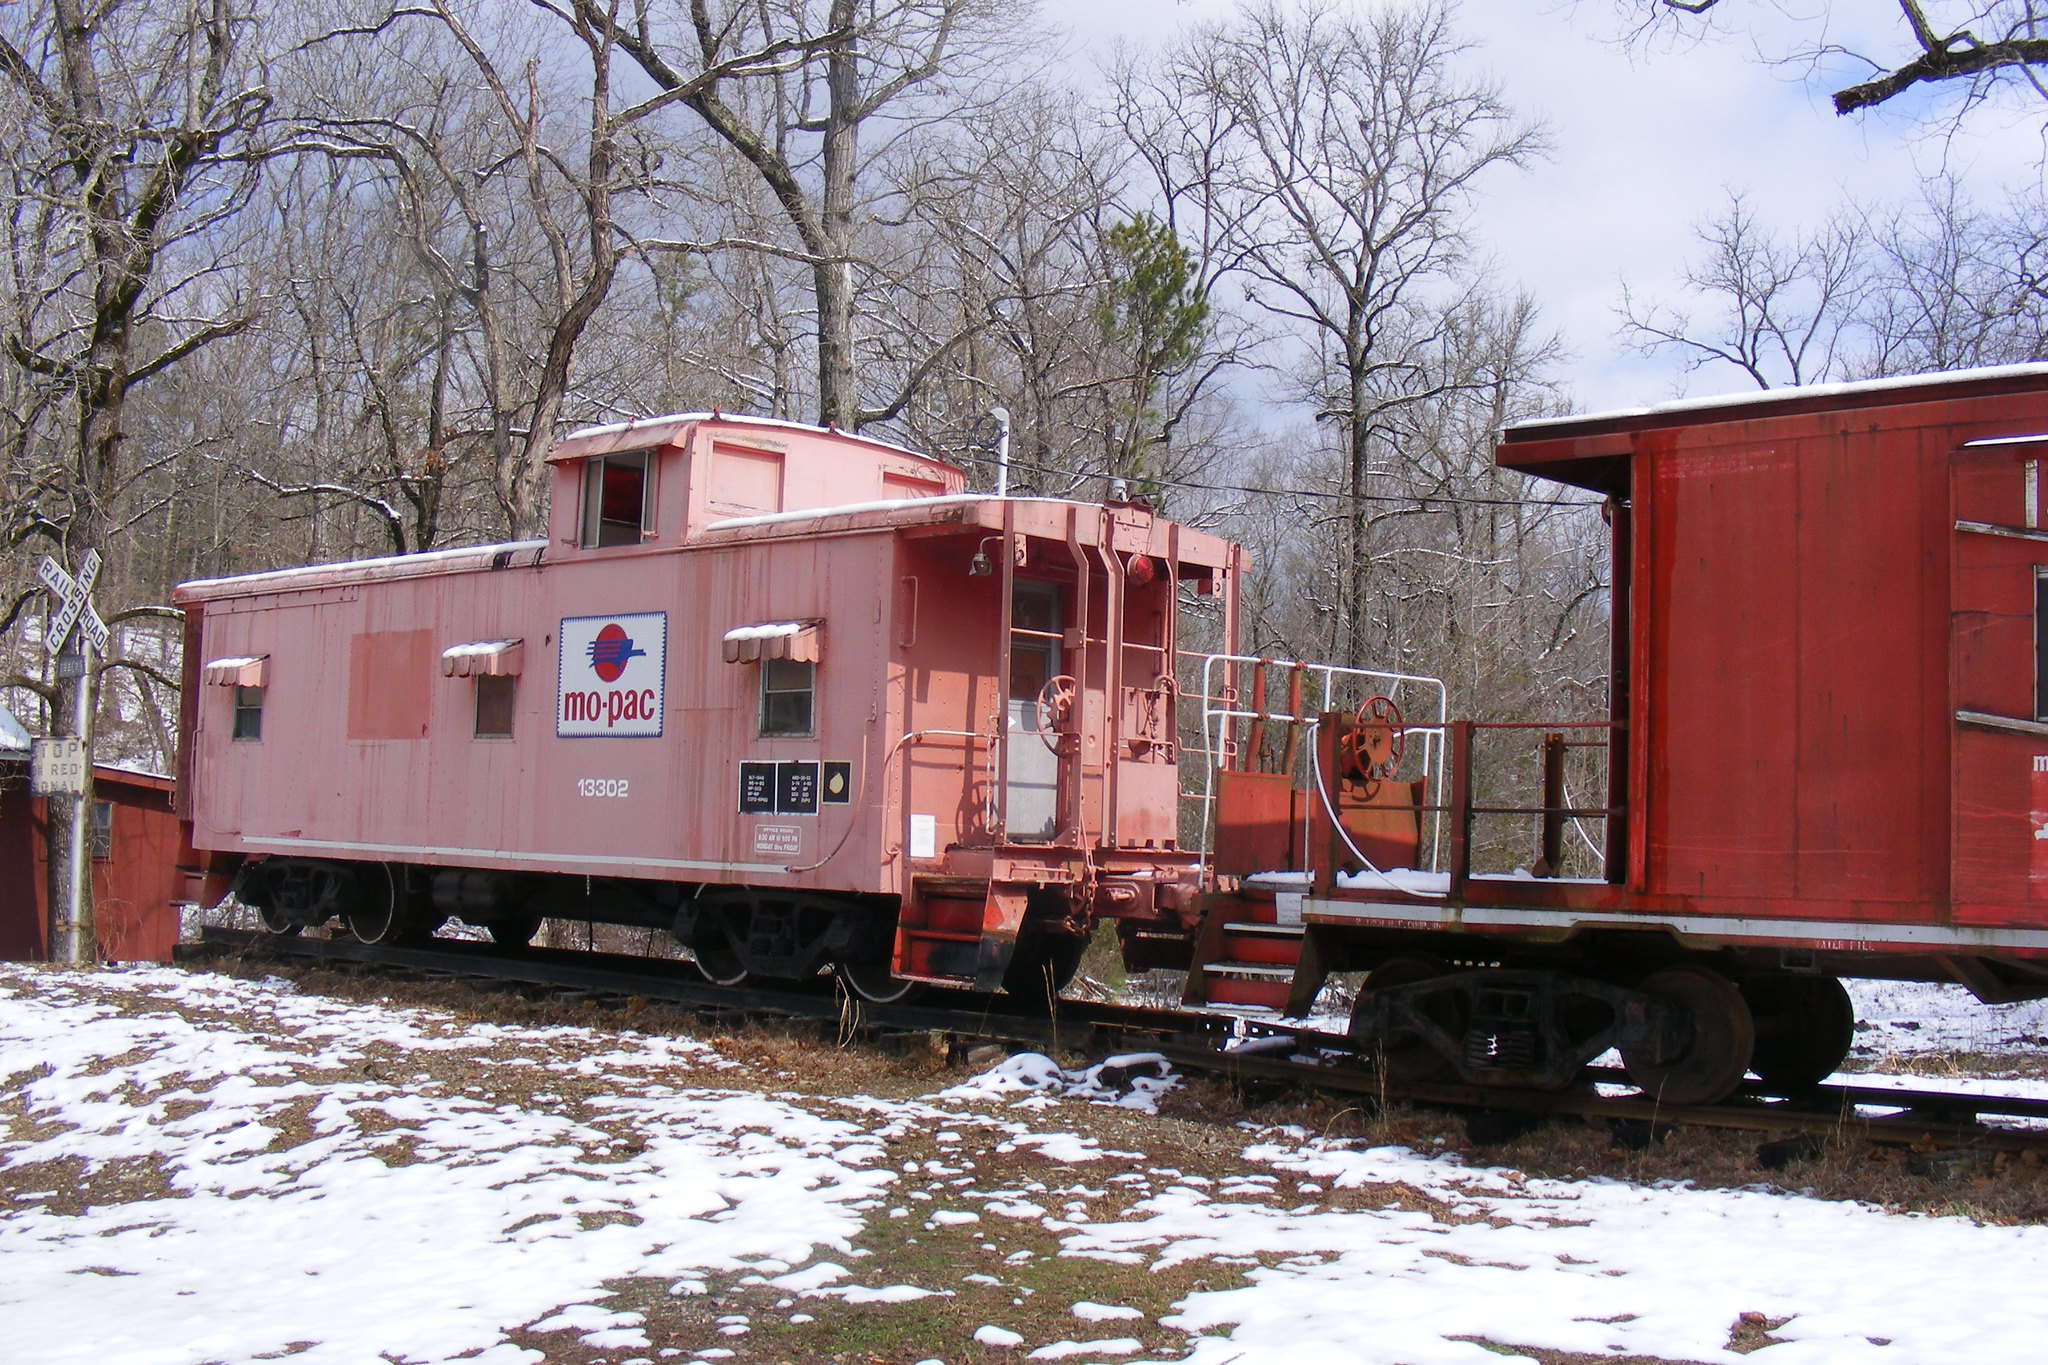train: (187, 413, 2048, 1162)
